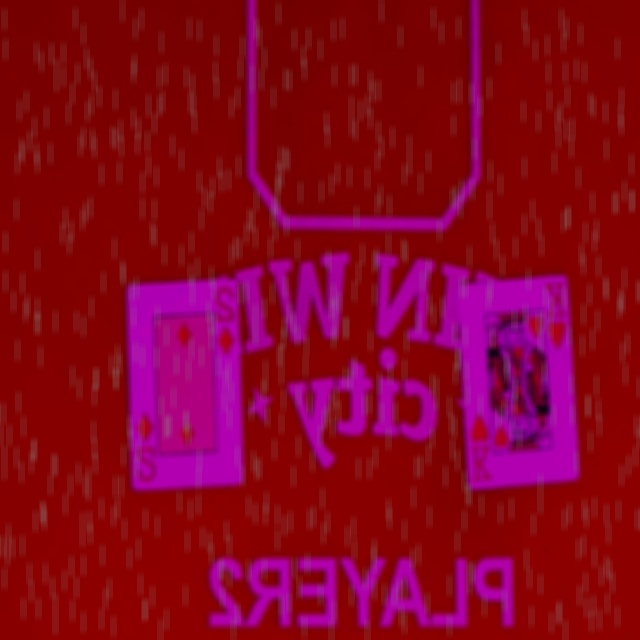2D: (212, 282, 238, 357), (130, 410, 156, 483)
KH: (463, 411, 493, 489), (542, 281, 569, 355)
